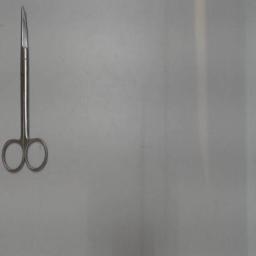Curved Mayo Scissors: (0, 3, 52, 177)
